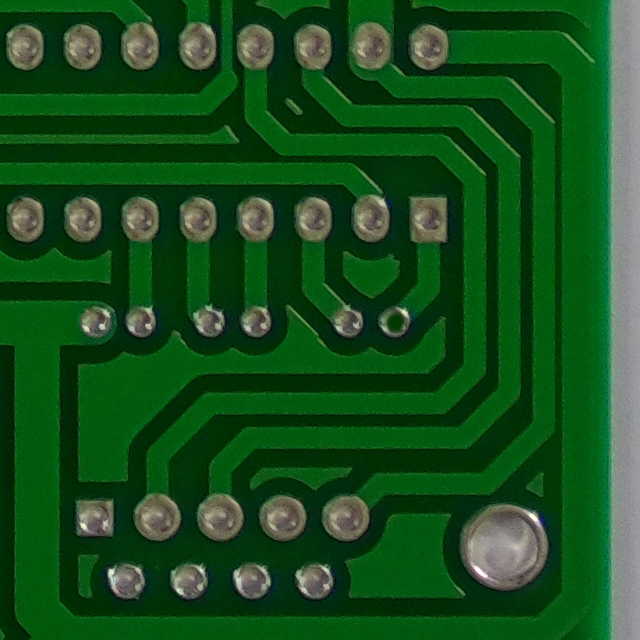missing_hole: (370, 295, 421, 346)
